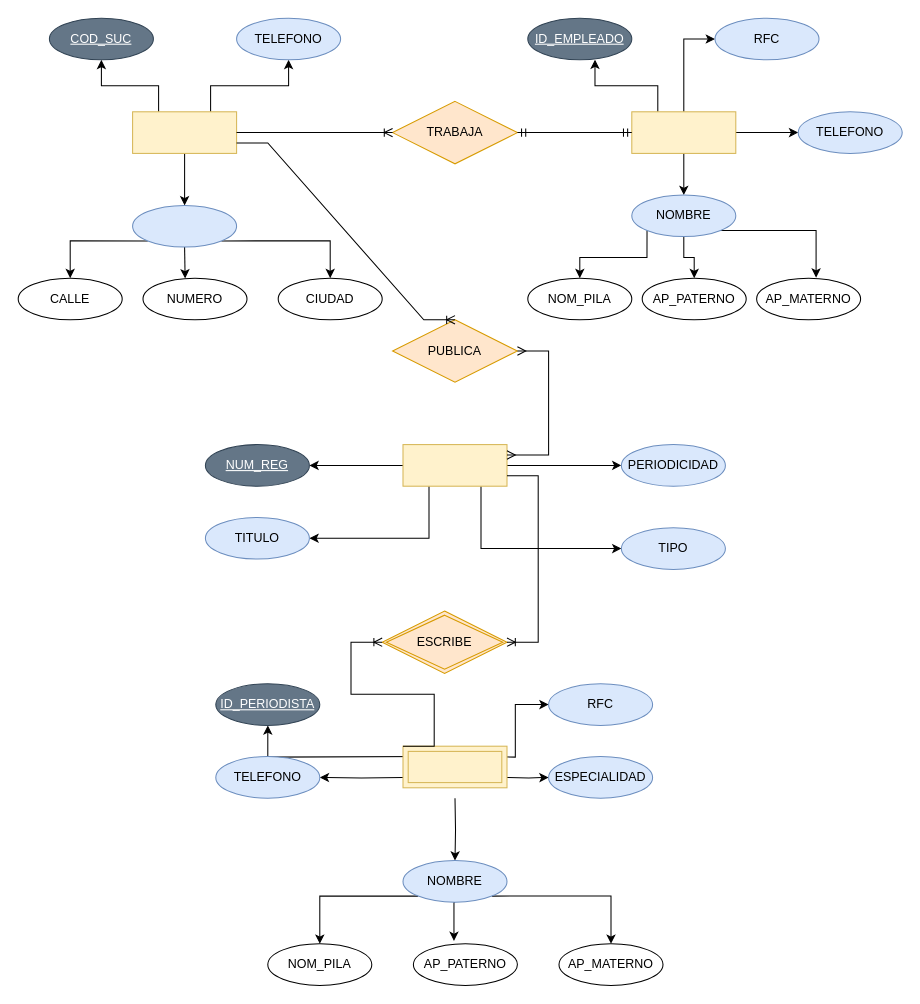
Some shapes in this 920 by 1004 pixel diagram are drawn without their labels. The shapes that lost their labels are listed below. From the top down, each one's centre as x and y in pixels, then its label:
pixel 184 132: SUCURSAL
pixel 683 132: EMPLEADO
pixel 184 225: DOMICILIO
pixel 454 465: REVISTA
pixel 454 766: PERIODISTA
